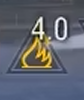1fire: (4, 44, 72, 75)
